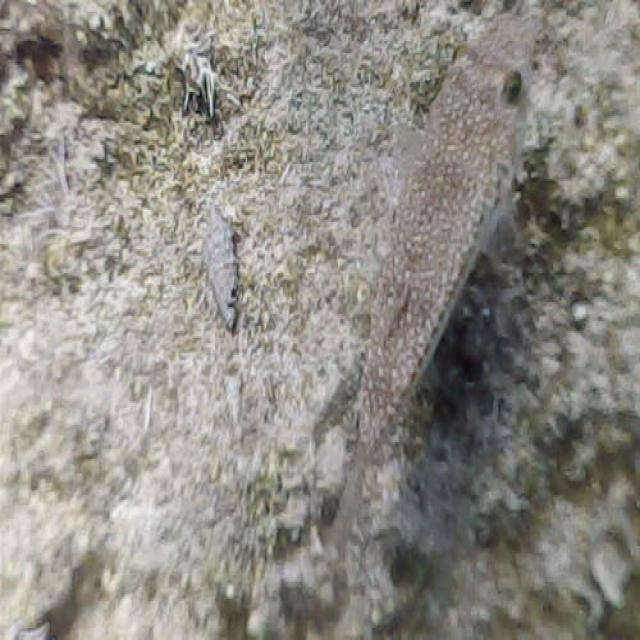Balik: (333, 14, 531, 541)
